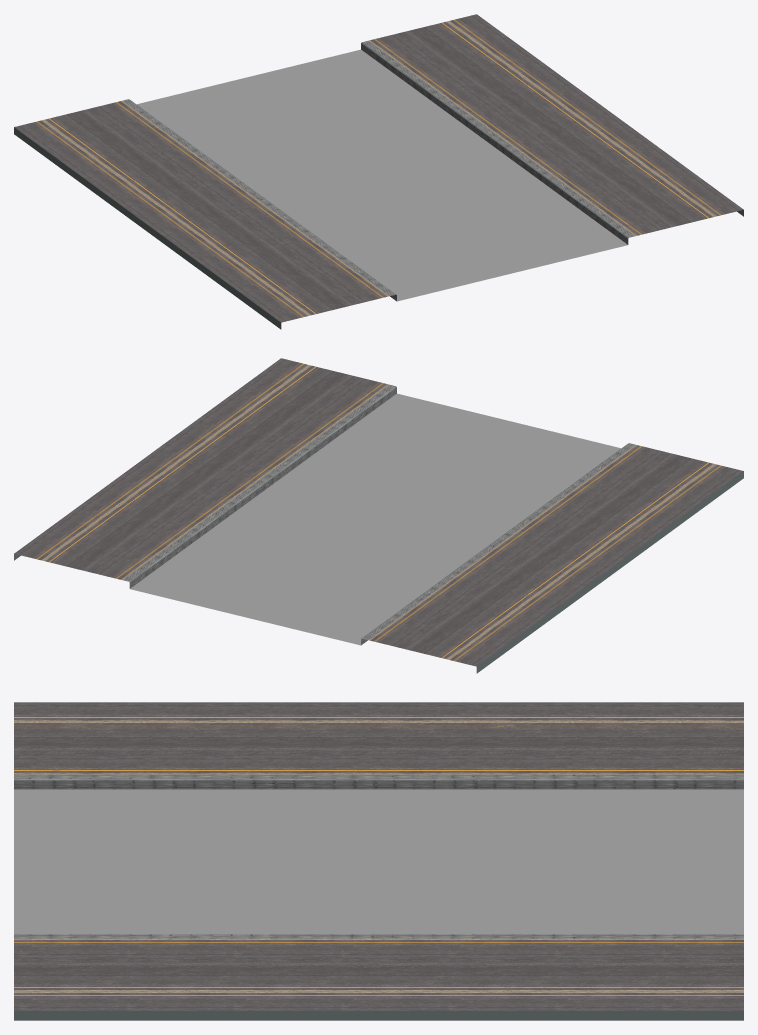
The model's file is road_straight2.FBX.
The picture shows the model from 3 angles, top to bottom: view 1: azimuth 30°, elevation 25°; view 2: azimuth 150°, elevation 25°; view 3: azimuth 270°, elevation 25°; orthographic projection. The views are drawn at different scales.
Visible parts, largest first — view 1: Plane_017; view 2: Plane_017; view 3: Plane_017.
Boxes of the visible parts, x1,y1,x2,y2 form: Plane_017: [14, 14, 743, 329]; Plane_017: [14, 358, 743, 673]; Plane_017: [14, 702, 743, 1020].
Size of the model in its own units: 0.24 by 0.00352 by 0.24.
